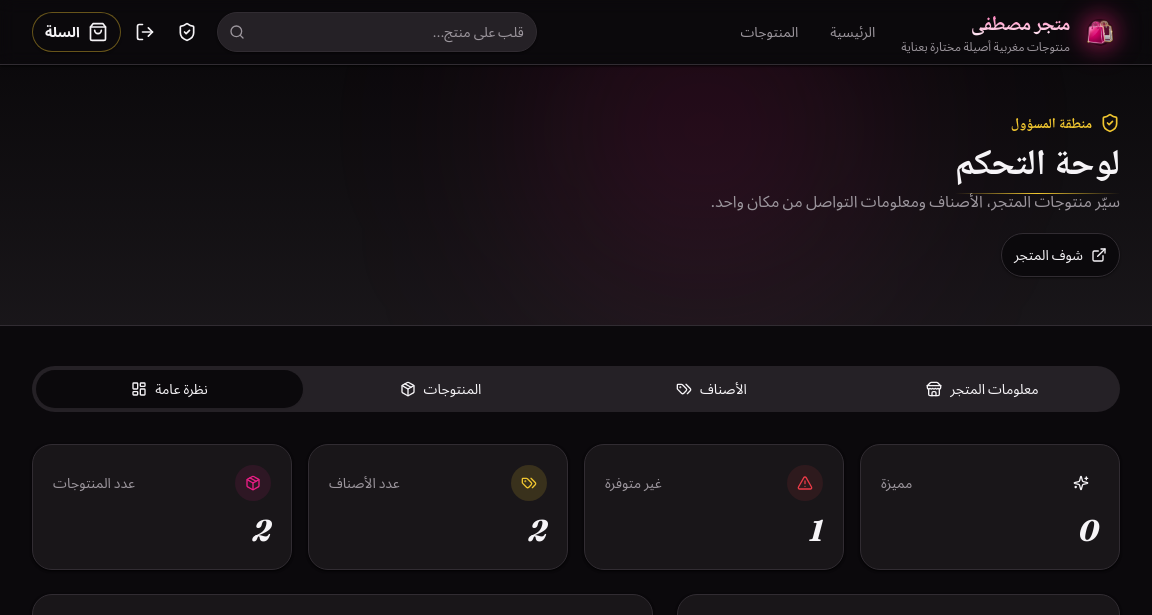
Test: admin store settings › saves store settings and shows the Arabic success message
Click the tab "معلومات المتجر" at (982, 389), box [849,370,1116,408]
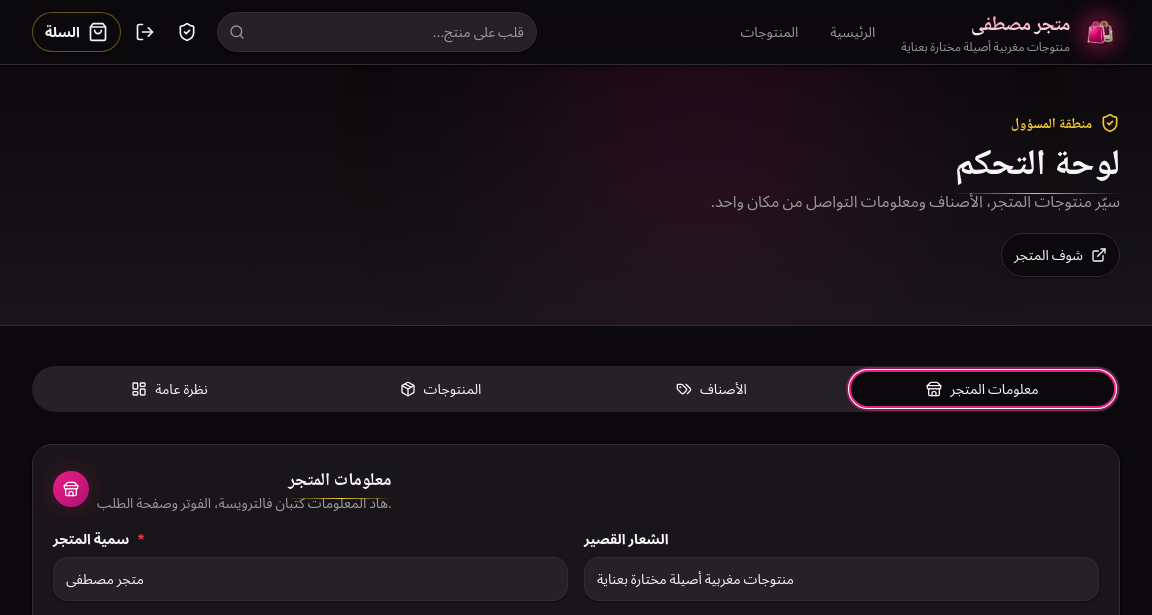
Replace the text in the field labelled "سمية المتجر *" with "متجر مصطفى الجديد" at (310, 579), box [53,557,568,601]
(page scrolled)
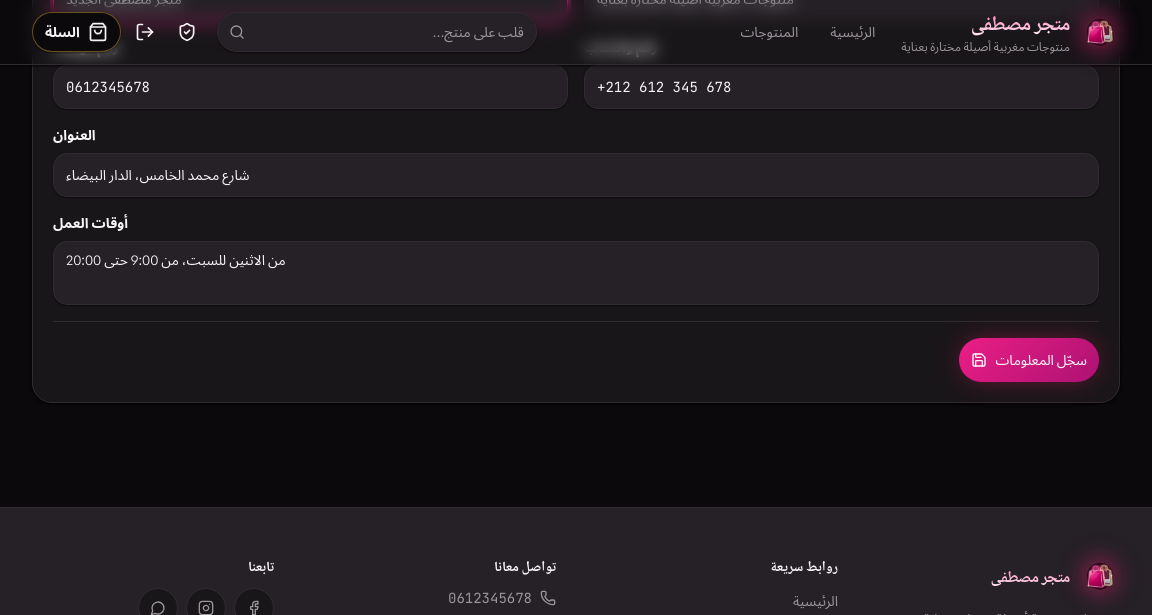
Click the button "سجّل المعلومات" at (1029, 360), box [960,338,1099,382]
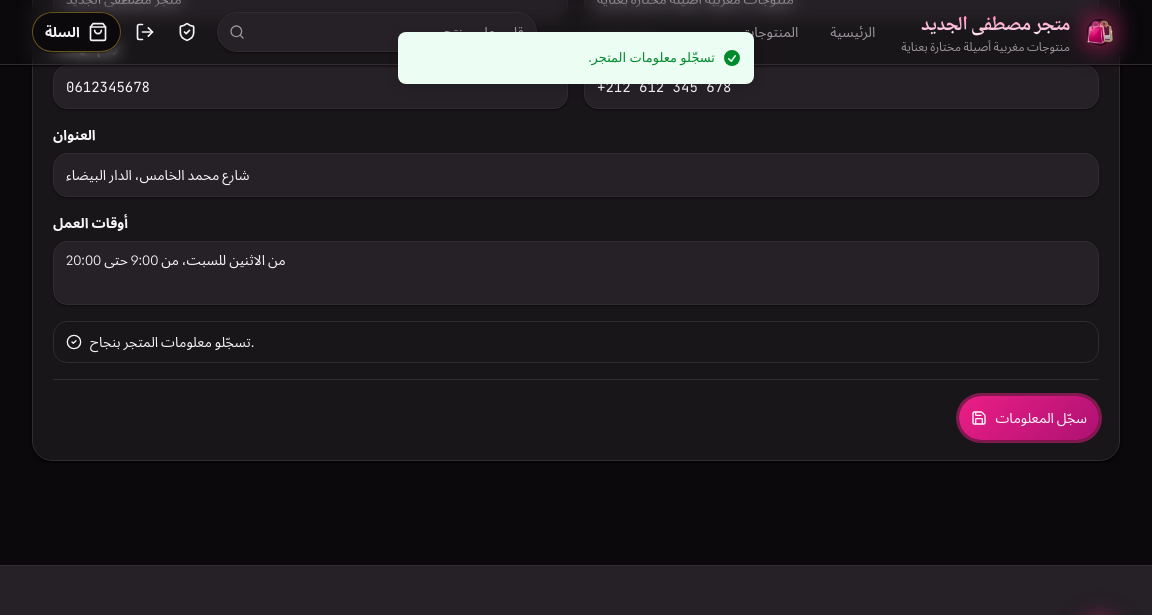
Check: the 1st text "متجر مصطفى الجديد" is shown, box [901,9,1070,37]
Check: the text "تسجّلو معلومات المتجر بنجاح." is shown, box [53,321,1099,363]
